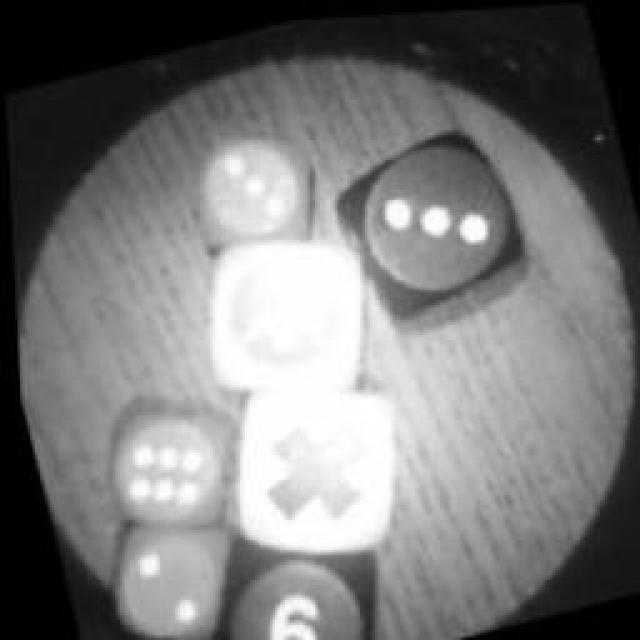dice_2: (81, 497, 251, 640)
dice_3: (312, 104, 546, 344), (168, 109, 332, 266)
dice_6: (74, 369, 254, 541)
